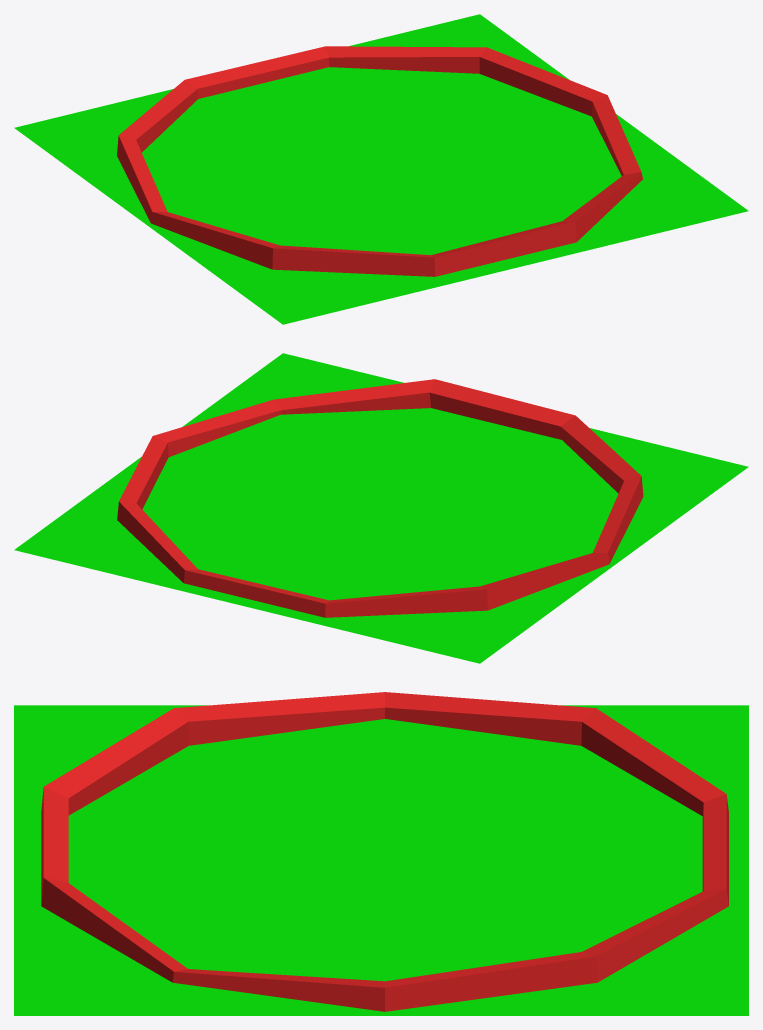
The model's file is F_krąg1_02.fbx.
The picture shows the model from 3 angles, top to bottom: view 1: azimuth 30°, elevation 25°; view 2: azimuth 150°, elevation 25°; view 3: azimuth 270°, elevation 25°; orthographic projection. The views are drawn at different scales.
Parts seen in each view (by area): view 1: F_krąg_01; view 2: F_krąg_01; view 3: F_krąg_01.
Part boxes in pixels (box(x1,y1,x2,y2)): F_krąg_01: box(14, 14, 748, 324); F_krąg_01: box(14, 353, 748, 663); F_krąg_01: box(14, 692, 748, 1015).
Size of the model in its own units: 5172 by 230 by 5172.
